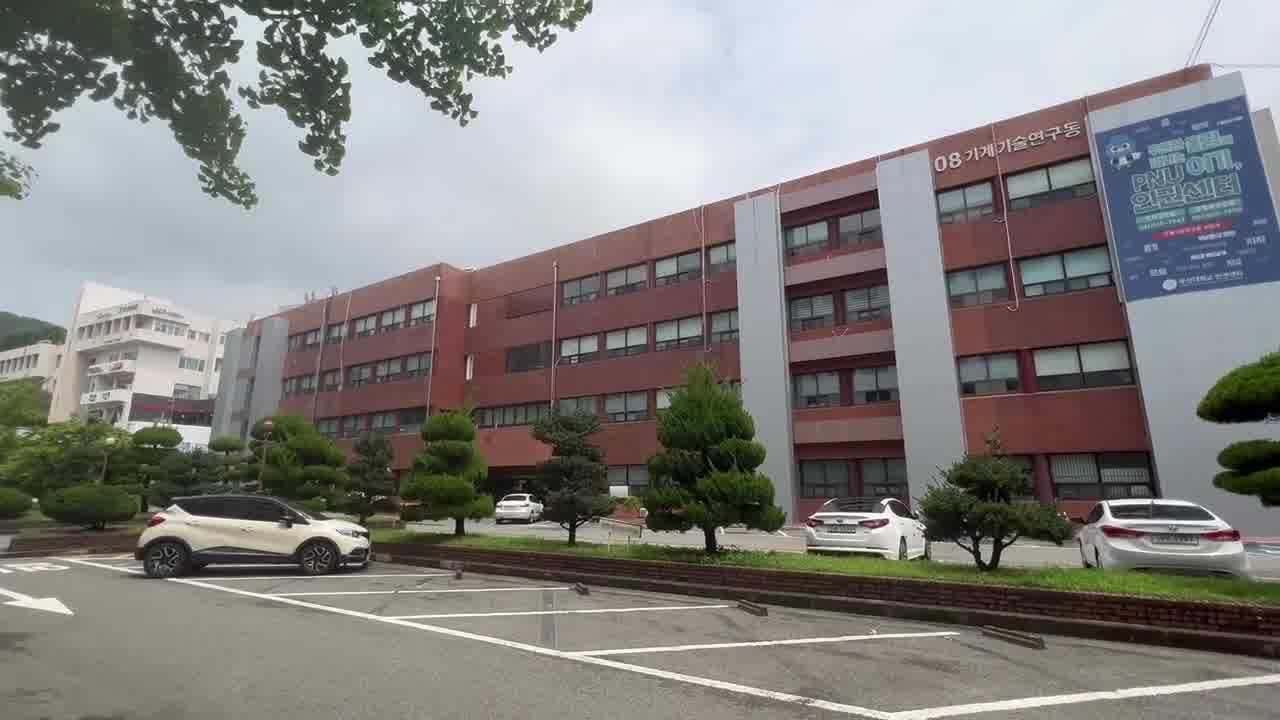building: (371, 126, 1103, 398)
